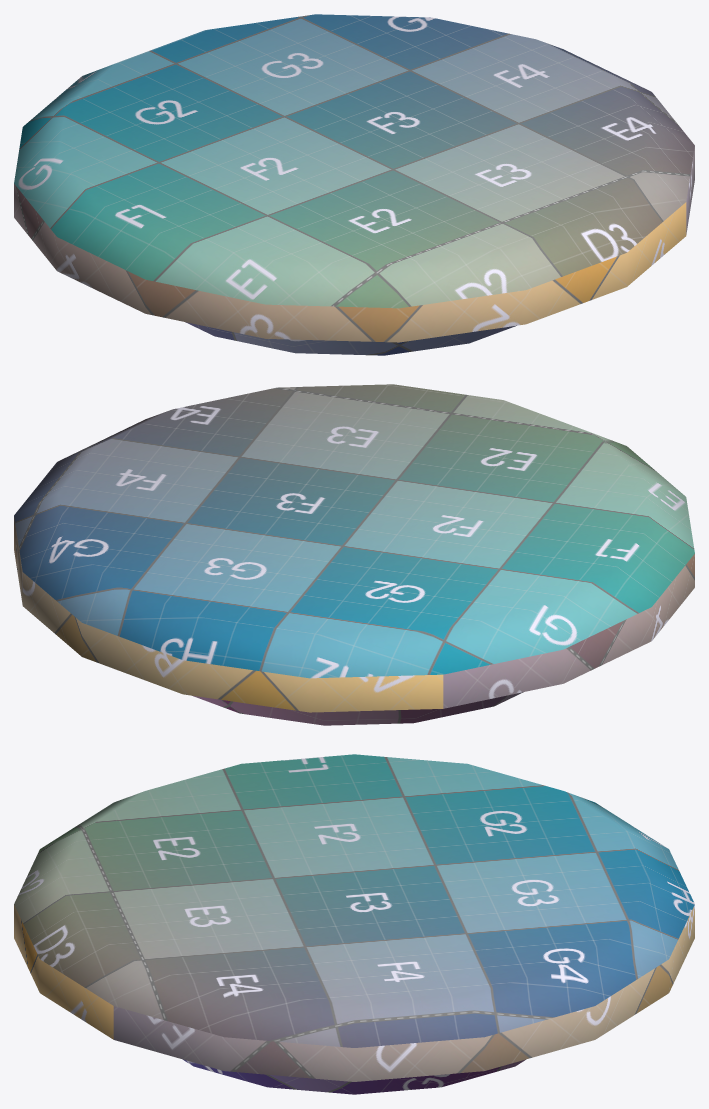
The model's file is RoundVaseLid_SHAT.fbx.
3 renders of one model, top to bottom at view 1: azimuth 30°, elevation 25°; view 2: azimuth 150°, elevation 25°; view 3: azimuth 270°, elevation 25°, orthographic.
Parts seen in each view (by area): view 1: RoundVaseLid_SHAT.001; view 2: RoundVaseLid_SHAT.001; view 3: RoundVaseLid_SHAT.001.
Part boxes in pixels (box(x1,y1,x2,y2)): RoundVaseLid_SHAT.001: box(14, 14, 694, 355); RoundVaseLid_SHAT.001: box(14, 384, 694, 725); RoundVaseLid_SHAT.001: box(14, 754, 694, 1094).
Size of the model in its own units: 0.4389 by 0.0847 by 0.4389.
1 material, 1 textured.
